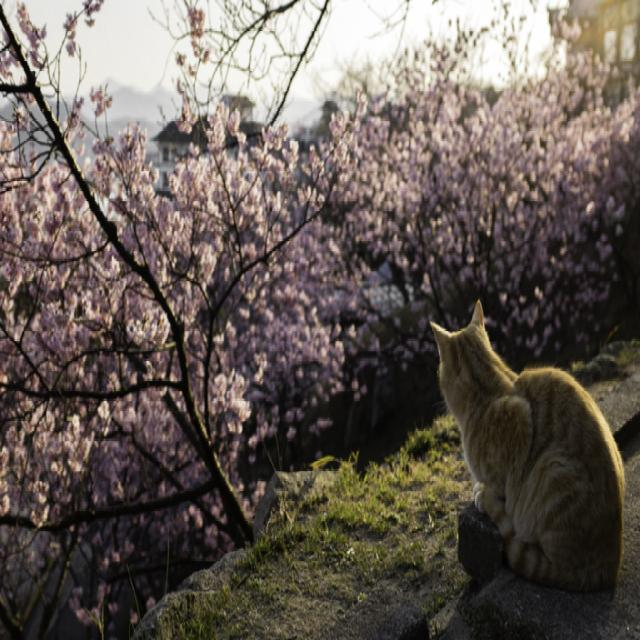Cat: (430, 294, 626, 598)
